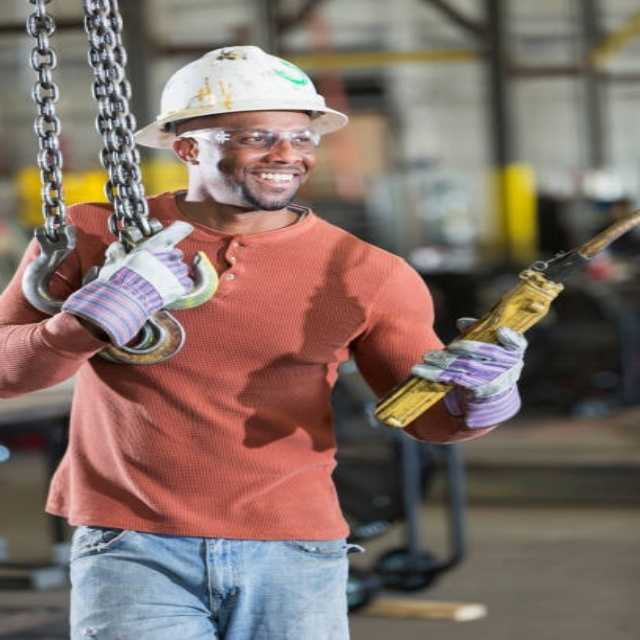Gafas: (185, 127, 324, 151)
Guantes: (53, 241, 191, 347), (414, 313, 529, 429)
Sin_mascara: (243, 165, 304, 201)
